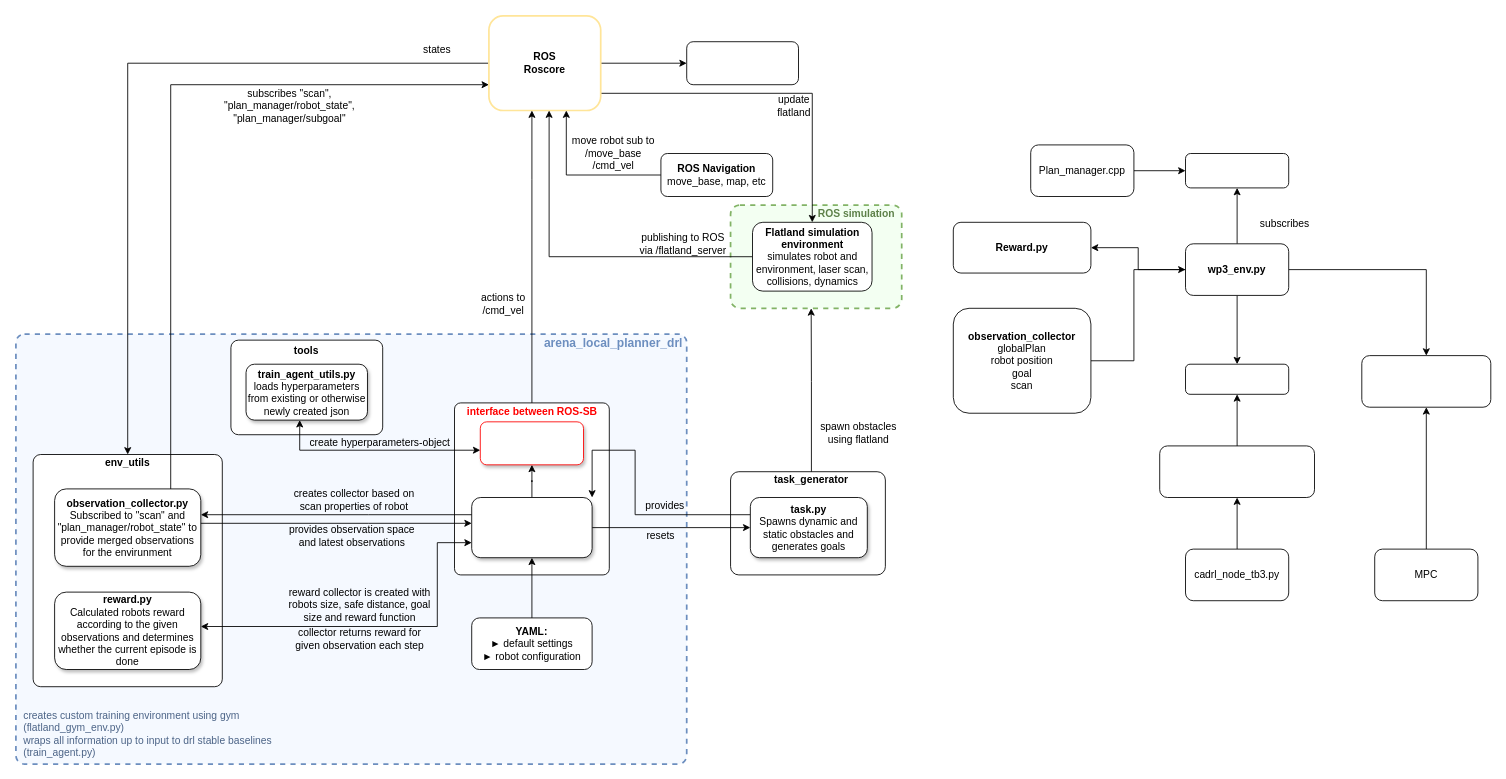
This 1506x779 diagram has some shape labels left out. The centre of each missing label's shape, as x and y in pixels:
"/move_base_simple/goal" goes at [1426,381].
"/subgoal" goes at [1237,170].
"/wp3" goes at [1237,378].
"cadrl.launch /wp3" goes at [1237,471].
"flatland_gym_env.py Wrapper implements custom openAI gym interface" goes at [532,528].
"RVIZ subscribes to ROS topics and visualizes" goes at [742,63].
"scripts train_agent.py run_agent.py" goes at [532,444].
